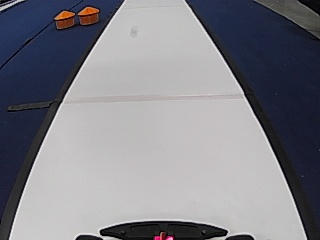granary: (77, 5, 100, 26), (52, 9, 75, 29)
